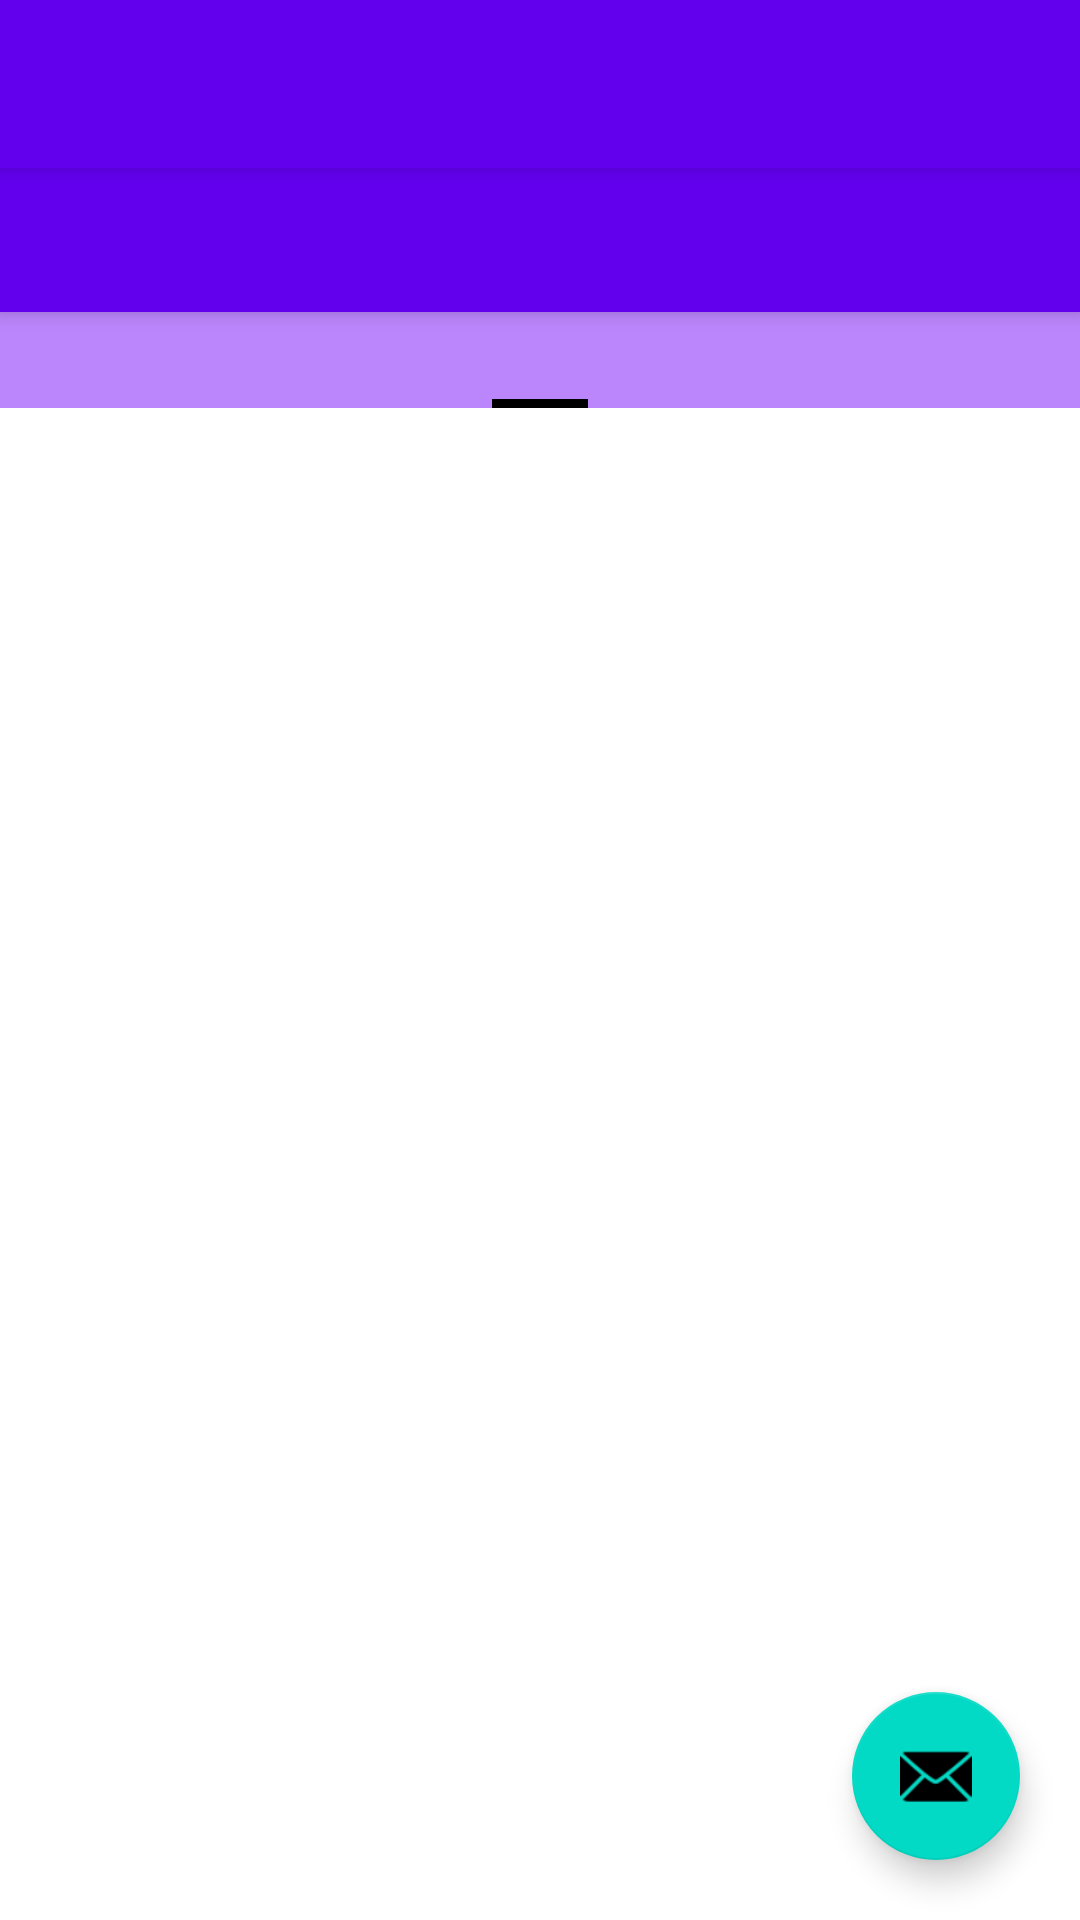

Screen size 1080x1920. Icon name, then its box in pixels as (x1, y1, x2, y2):
email: (852, 1692, 1020, 1860)
